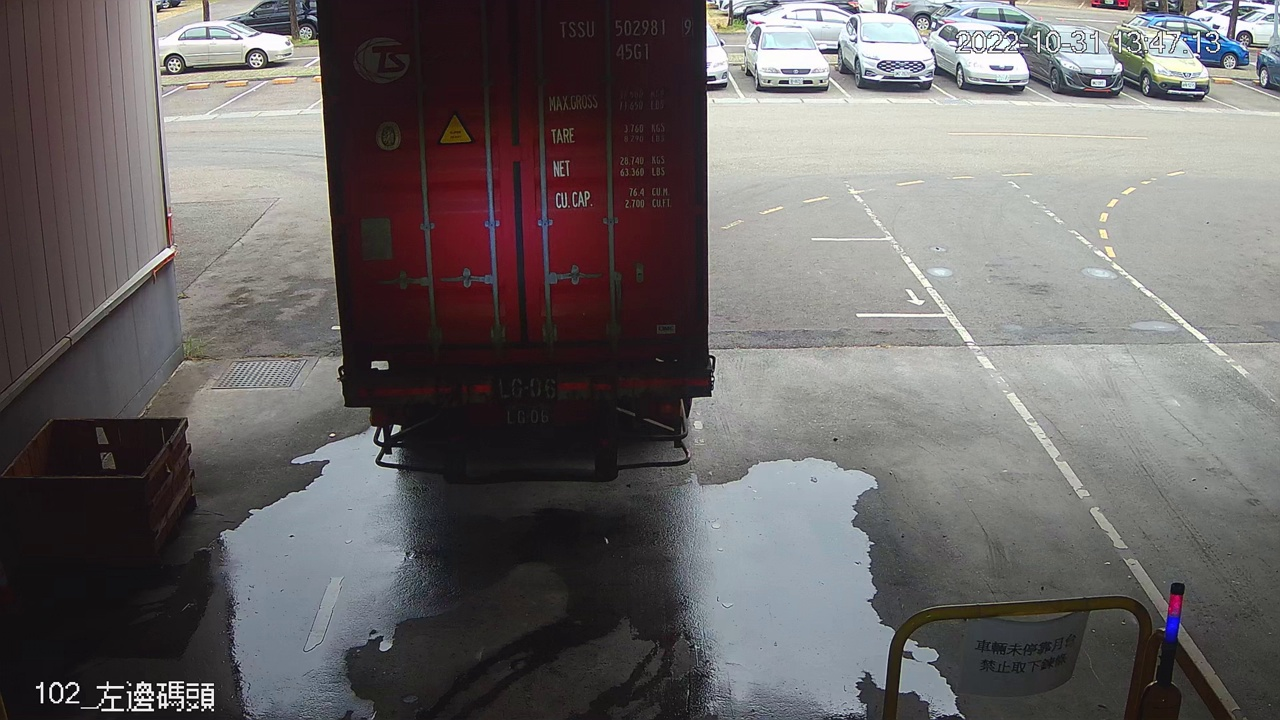container: (555, 12, 700, 66)
